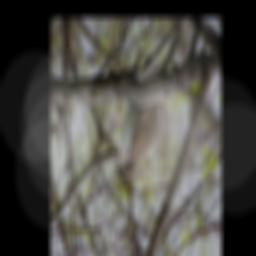Cuckoo: (115, 17, 186, 178)
